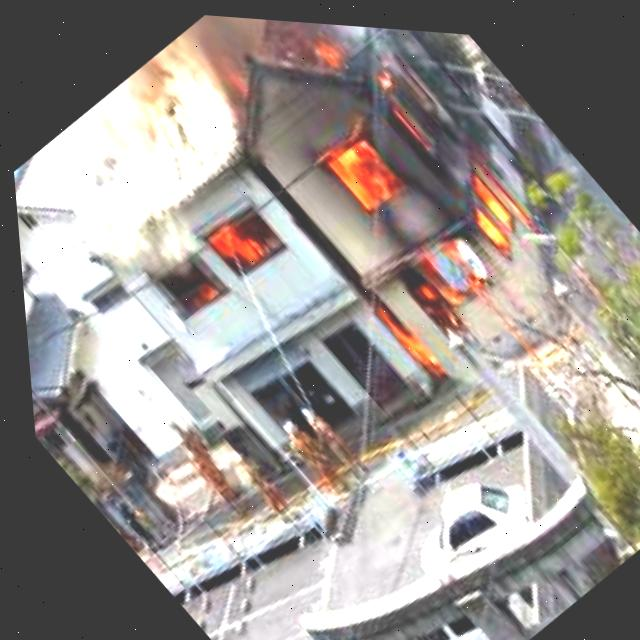Fire: (303, 114, 409, 221), (362, 291, 452, 389), (193, 190, 282, 277), (448, 165, 534, 255)
Smoke: (10, 1, 388, 282)
